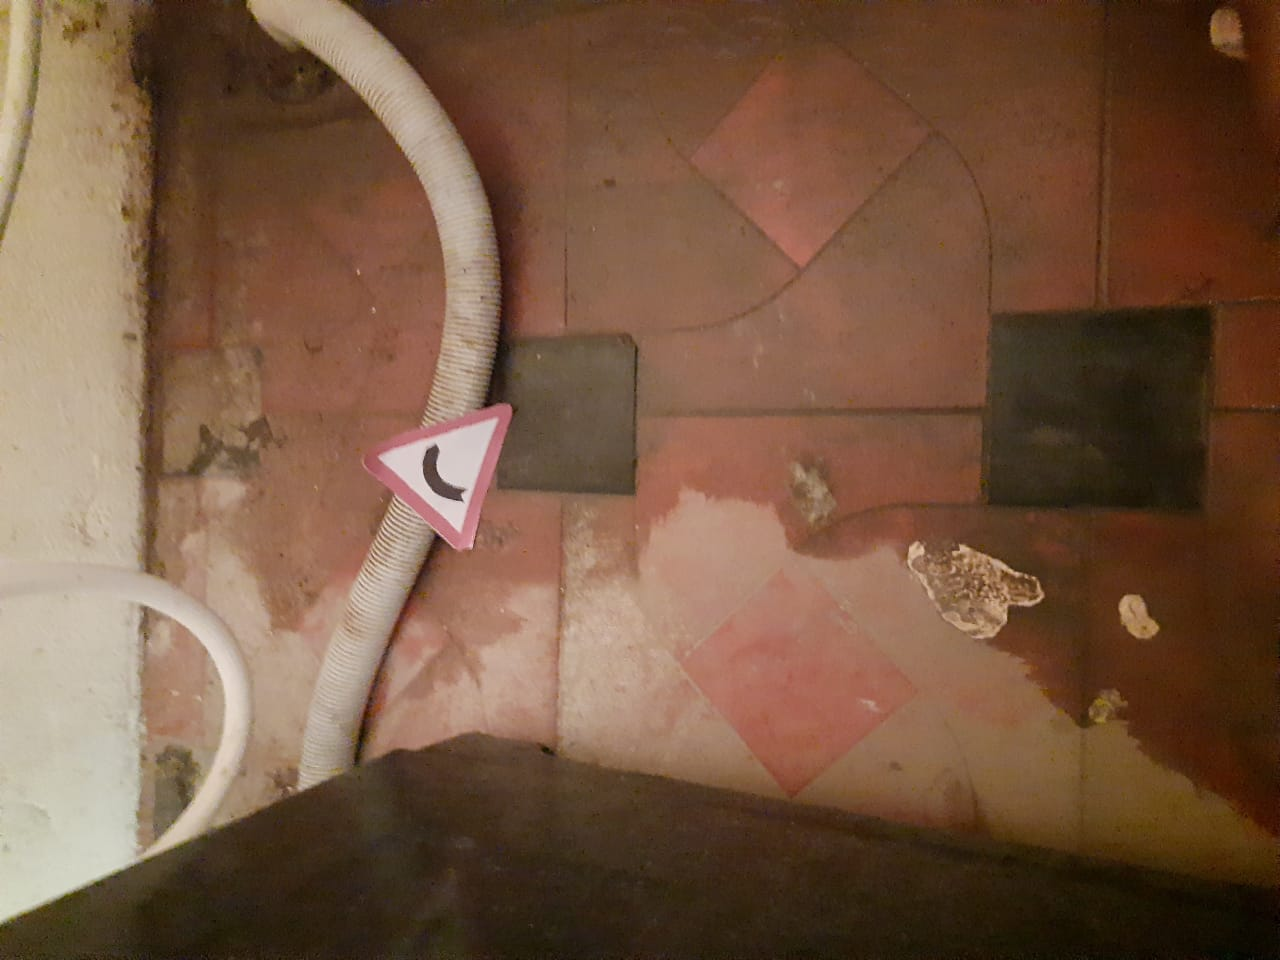RIGHT CURVE: (359, 391, 520, 551)
